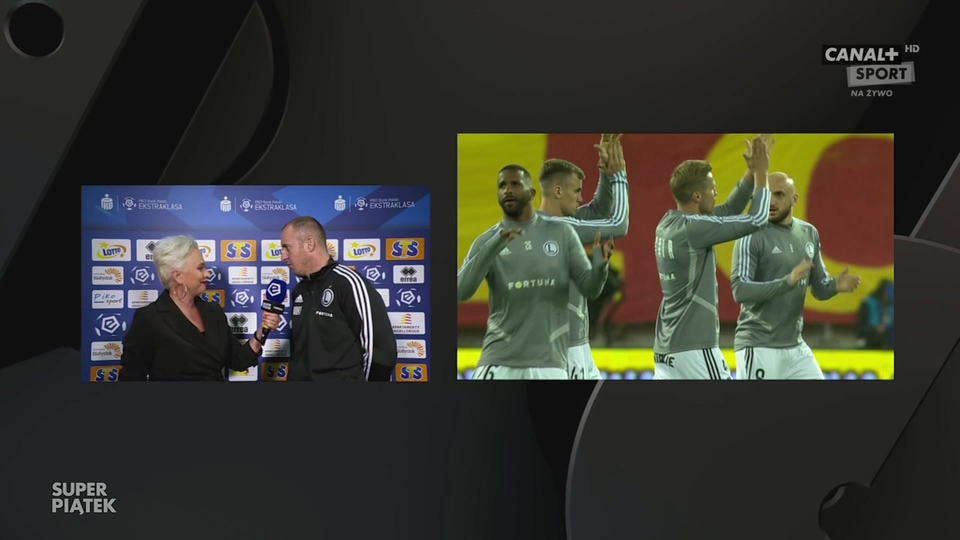Adidas: (499, 244, 512, 258), (770, 243, 781, 255), (294, 293, 305, 304)
